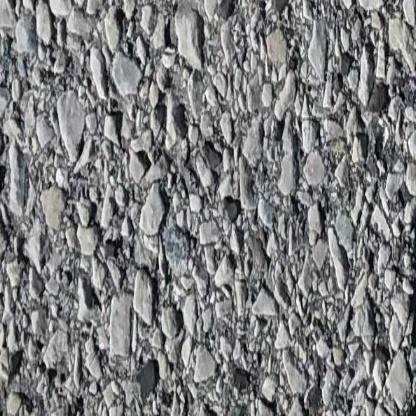Cracks: (398, 106, 416, 416)
